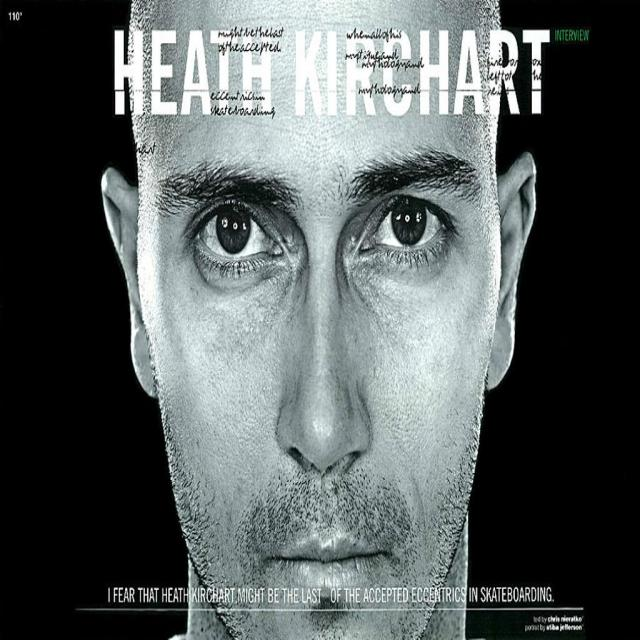nomask: (138, 6, 498, 640)
